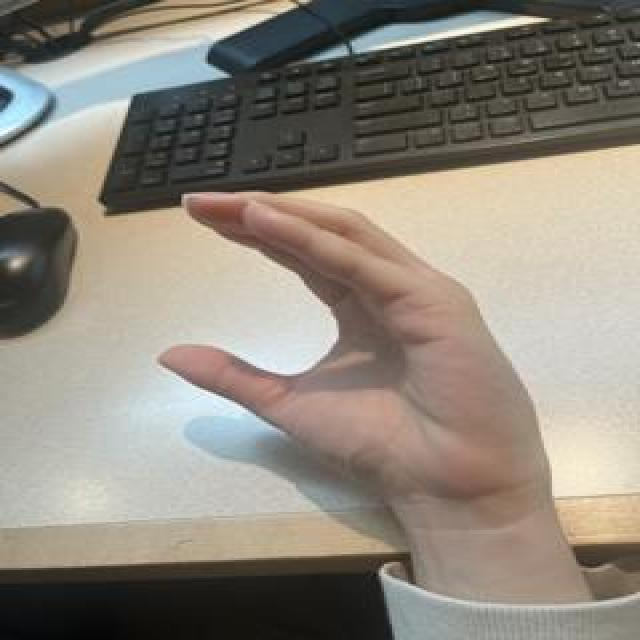C: (149, 188, 555, 506)
